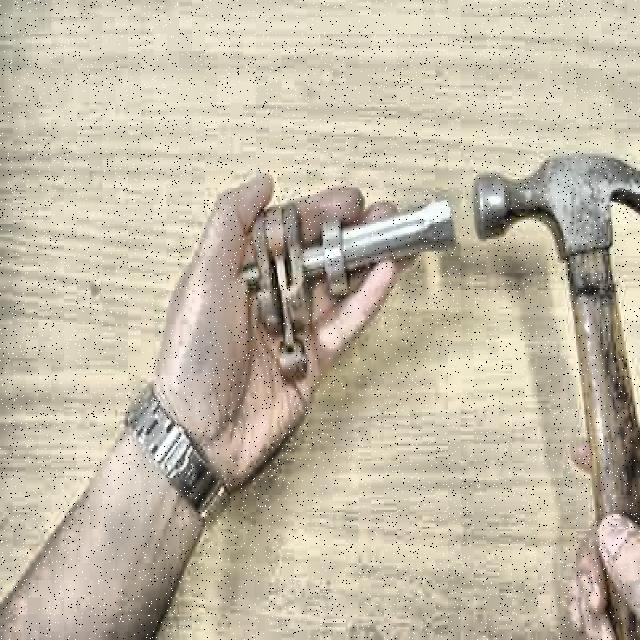hammer: (472, 153, 640, 626)
